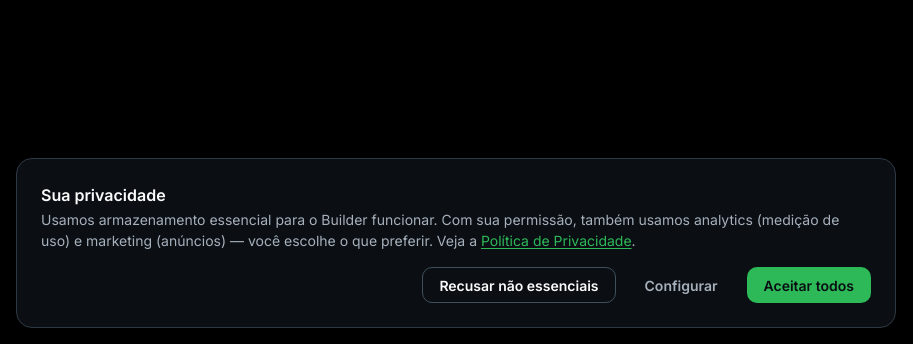
it: ConsentBanner (Fase LGPD, briefing Seções 16-21) › nenhum checkbox de categoria opcional vem pré-marcado ao abrir 'Configurar' (Seção: nunca pré-marcar)
Click the button "Configurar": click(681, 285) [628,267,734,303]
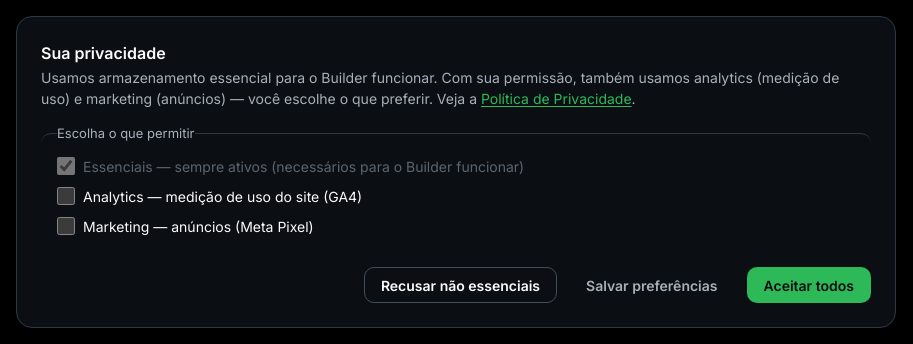
Now the checkbox labelled "Analytics — medição de uso do site (GA4)" is not checked, box [57,187,75,205]
Now the checkbox labelled "Marketing — anúncios (Meta Pixel)" is not checked, box [57,217,75,235]
